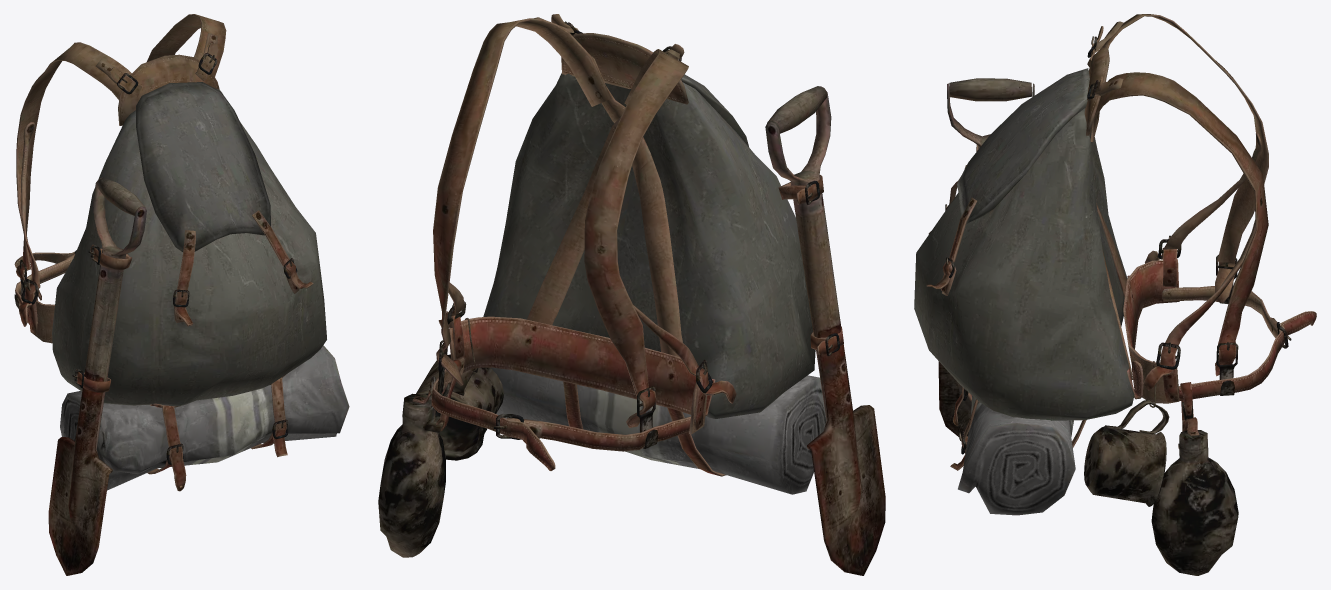
The model's file is gear-backpack.glb.
3 renders of one model, left to right at view 1: azimuth 30°, elevation 25°; view 2: azimuth 150°, elevation 25°; view 3: azimuth 270°, elevation 25°, orthographic. The views are drawn at different scales.
Parts seen in each view (by area): view 1: backpack_main_Low, backpack_main_2_Low, blanket_Low, shovel_Low, leather strap_9_Low.001, leather_part1_Low, leather strap_10_Low, leather strap_Low, leather strap_7_Low.002, leather strap_8_Low, handle_Low, leather strap_2_Low (+3 smaller); view 2: backpack_main_Low, leather strap_9_Low.001, shovel_Low, blanket_Low, belt_2_Low, Flask_Low, leather strap_12a_Low, leather strap_12_Low, cup_Low.001, leather_part1_Low, belt3a_Low, belt3_Low (+6 smaller); view 3: backpack_main_Low, leather strap_9_Low.001, blanket_Low, Flask_Low, backpack_main_2_Low, cup_Low.001, belt_2_Low, belt3_Low, shovel_Low, leather strap_10_Low.001, handle_Low, leather strap_10_Low (+7 smaller).
Part boxes in pixels (x1,y1,x2,y2): backpack_main_Low: [52, 89, 326, 406]; backpack_main_2_Low: [136, 82, 270, 251]; blanket_Low: [60, 345, 349, 490]; shovel_Low: [48, 178, 146, 575]; leather strap_9_Low.001: [16, 14, 226, 300]; leather_part1_Low: [118, 54, 219, 125]; leather strap_10_Low: [19, 122, 40, 326]; leather strap_Low: [175, 230, 195, 326]; leather strap_7_Low.002: [162, 405, 186, 491]; leather strap_8_Low: [251, 377, 287, 457]; handle_Low: [97, 177, 145, 215]; leather strap_2_Low: [252, 210, 313, 288]; backpack_main_Low: [483, 73, 815, 418]; leather strap_9_Low.001: [433, 18, 688, 427]; shovel_Low: [765, 86, 885, 575]; blanket_Low: [491, 367, 826, 494]; belt_2_Low: [449, 316, 707, 434]; Flask_Low: [378, 393, 445, 557]; leather strap_12a_Low: [551, 14, 682, 356]; leather strap_12_Low: [527, 44, 684, 324]; cup_Low.001: [402, 354, 503, 460]; leather_part1_Low: [561, 33, 688, 104]; belt3a_Low: [507, 416, 691, 451]; belt3_Low: [431, 357, 555, 470]; backpack_main_Low: [914, 108, 1134, 420]; leather strap_9_Low.001: [1090, 14, 1268, 376]; blanket_Low: [958, 396, 1075, 515]; Flask_Low: [1151, 430, 1238, 575]; backpack_main_2_Low: [957, 68, 1089, 224]; cup_Low.001: [1084, 426, 1166, 506]; belt_2_Low: [1123, 259, 1179, 403]; belt3_Low: [1178, 311, 1316, 400]; shovel_Low: [938, 83, 1034, 437]; leather strap_10_Low.001: [1143, 220, 1255, 390]; handle_Low: [949, 78, 1031, 101]; leather strap_10_Low: [1145, 133, 1261, 263].
Size of the model in its own units: 0.4906 by 0.7108 by 0.5317.
1 material, 1 textured.
